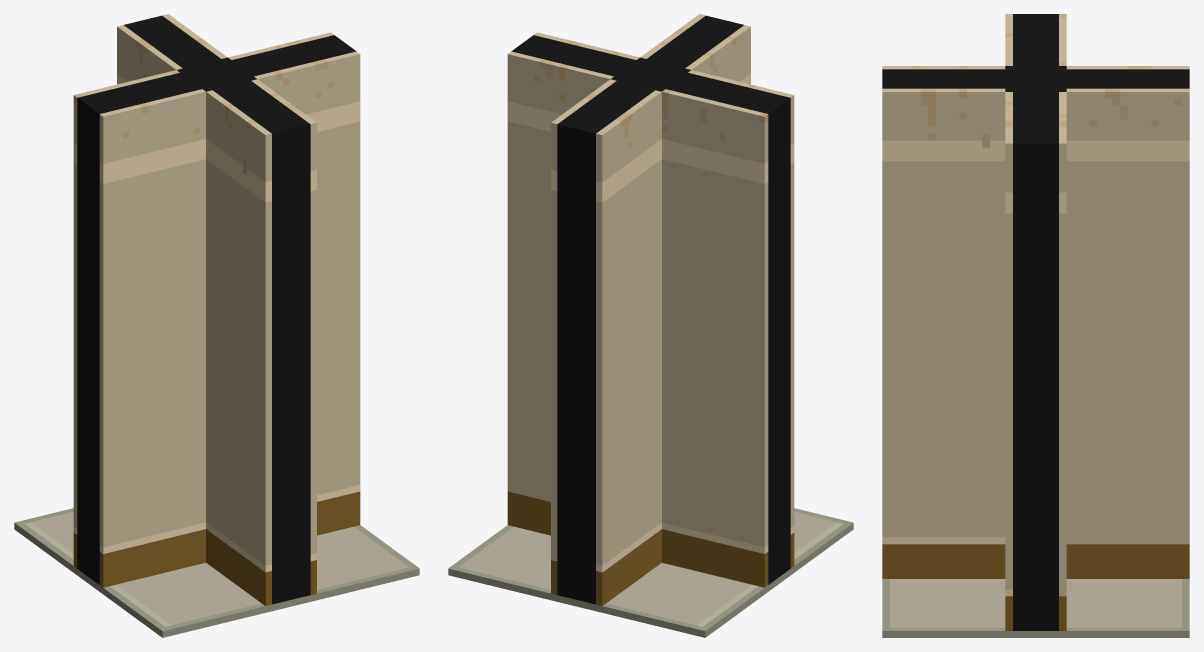
The model's file is Parede_X.obj.
The picture shows the model from 3 angles, left to right: view 1: azimuth 30°, elevation 25°; view 2: azimuth 150°, elevation 25°; view 3: azimuth 270°, elevation 25°; orthographic projection. The views are drawn at different scales.
Bounding box in the file's own units: 40 × 71 × 40.
Materials: 1 (1 with a texture image).
